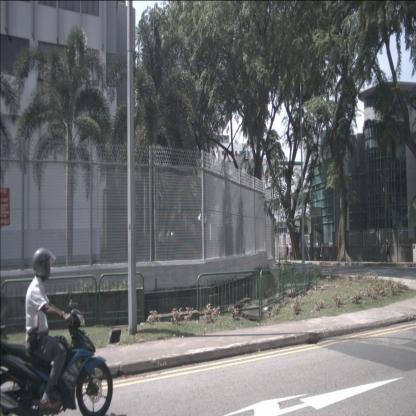human-pedestrian-adult: (384, 237, 392, 263), (320, 241, 326, 262), (288, 242, 294, 260), (285, 244, 289, 260)
vehicle-motorcycle: (0, 247, 113, 415)
